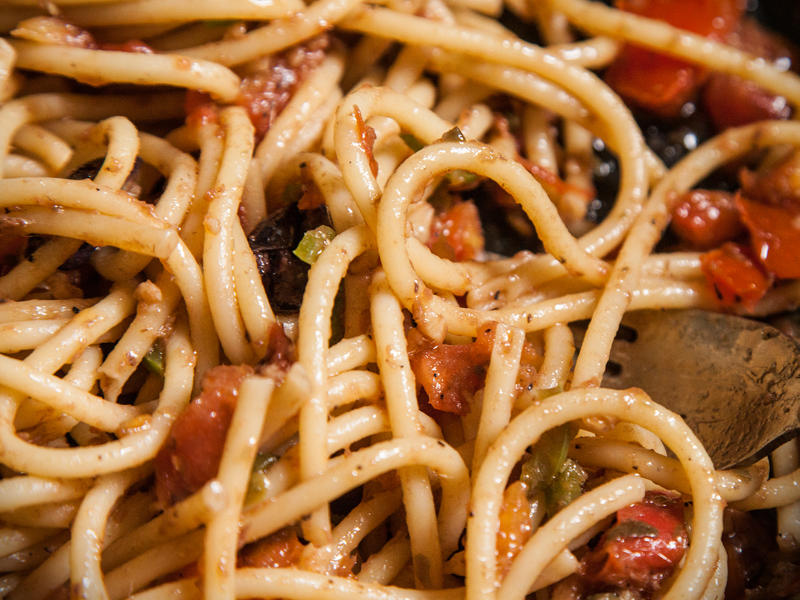plain spaghetti: (80, 56, 656, 574)
